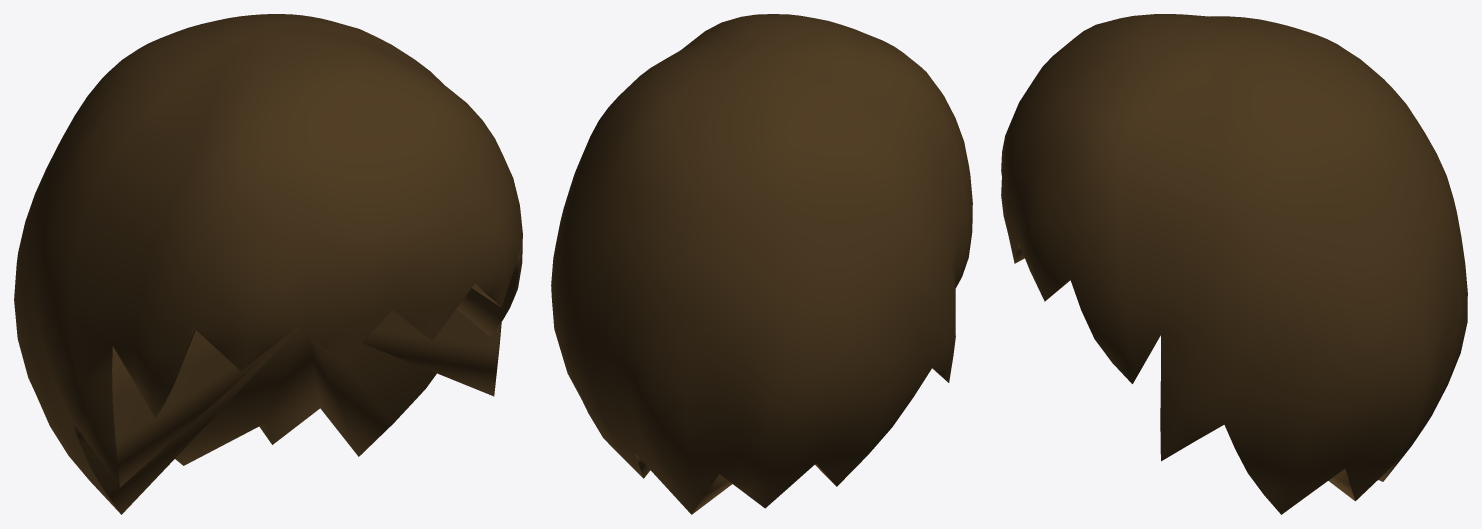
Rendered from hair_049.gltf.
3 renders of one model, left to right at view 1: azimuth 30°, elevation 25°; view 2: azimuth 150°, elevation 25°; view 3: azimuth 270°, elevation 25°, orthographic. The views are drawn at different scales.
Parts seen in each view (by area): view 1: hair.134; view 2: hair.134; view 3: hair.134.
Part boxes in pixels (box(x1,y1,x2,y2)): hair.134: box(14, 14, 522, 514); hair.134: box(551, 14, 972, 514); hair.134: box(1001, 14, 1467, 514).
Bounding box in the file's own units: 0.1216 × 0.1345 × 0.1266.
